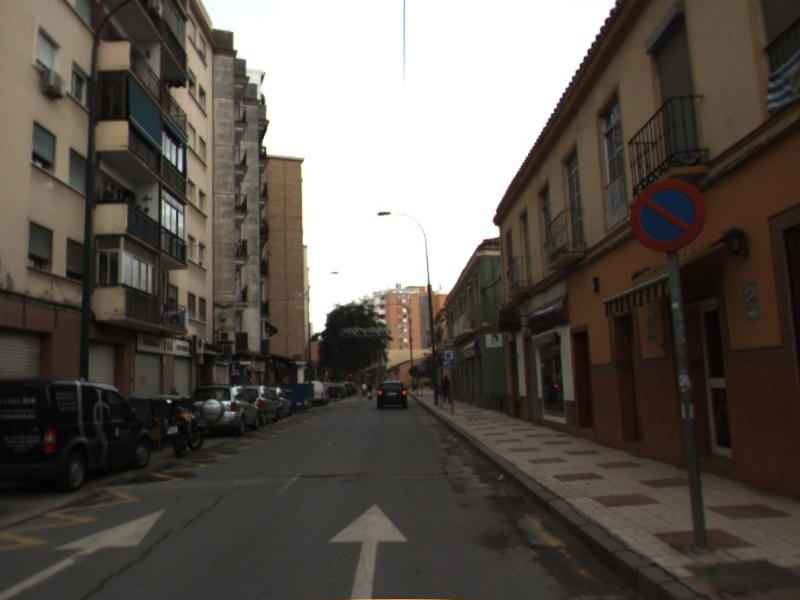STRAIGHT: (1, 506, 169, 600), (325, 501, 410, 600)
